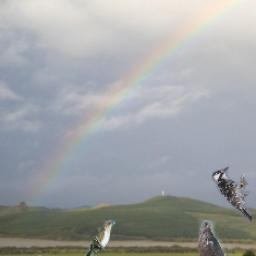Crow: (199, 220, 233, 256)
Cuckoo: (72, 219, 117, 256)
Woodpecker: (212, 166, 253, 221)
